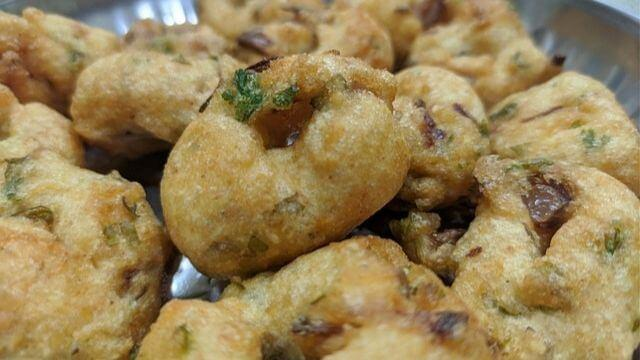mvada: (111, 45, 476, 224)
